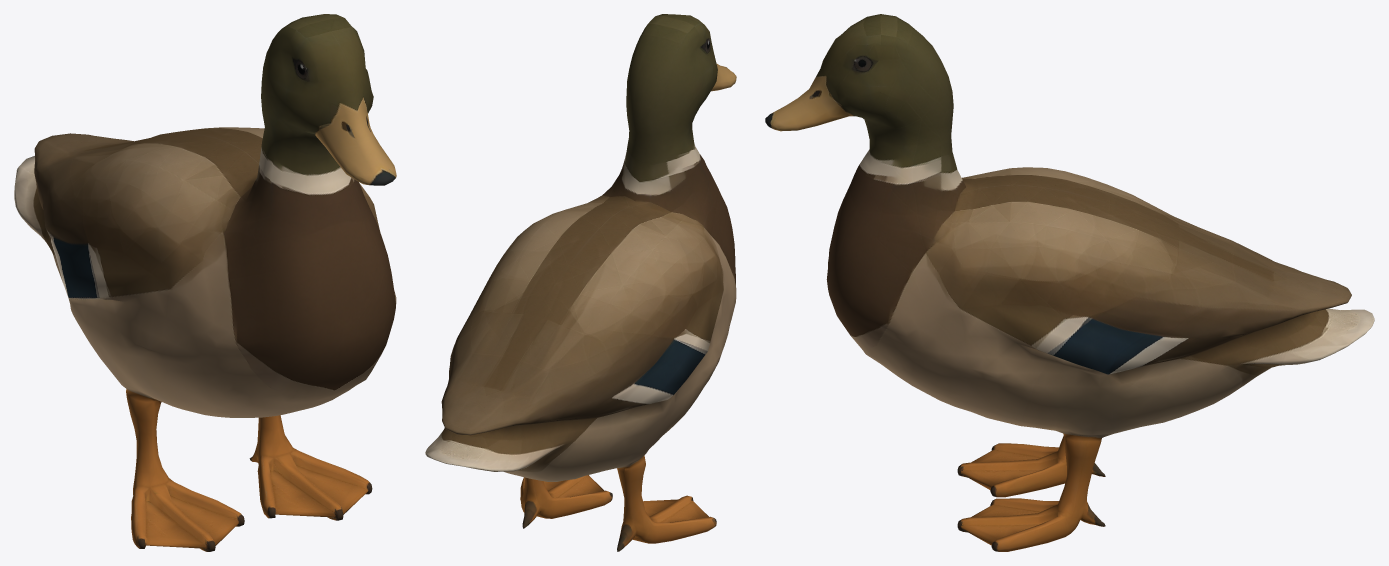
The model's file is duck.glb.
3 renders of one model, left to right at view 1: azimuth 30°, elevation 25°; view 2: azimuth 150°, elevation 25°; view 3: azimuth 270°, elevation 25°, orthographic. The views are drawn at different scales.
Visible parts, largest first — view 1: GOE_duck; view 2: GOE_duck; view 3: GOE_duck.
Boxes of the visible parts, x1,y1,x2,y2 form: GOE_duck: (14, 14, 396, 551); GOE_duck: (425, 14, 736, 551); GOE_duck: (765, 14, 1374, 551).
Bounding box in the file's own units: 0.4351 × 0.8722 × 1.
1 material, 1 textured.
